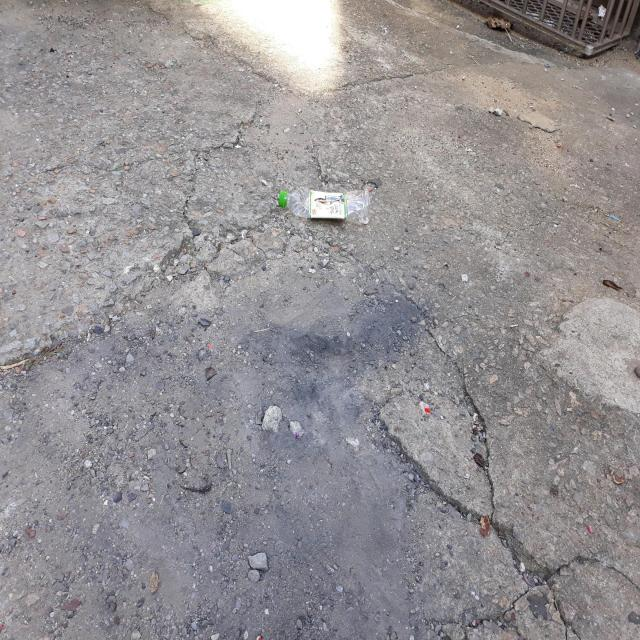plastic: (278, 186, 371, 223)
